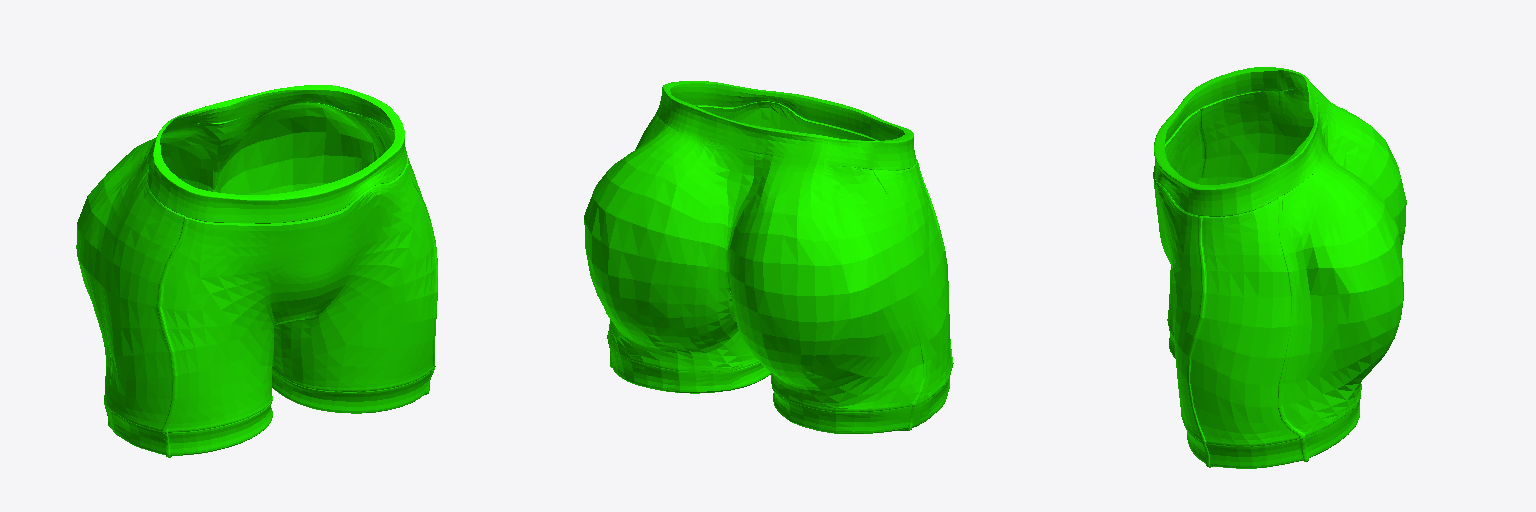
3 renders of one model, left to right at view 1: azimuth 30°, elevation 25°; view 2: azimuth 150°, elevation 25°; view 3: azimuth 270°, elevation 25°, orthographic.
Parts seen in each view (by area): view 1: ku.001; view 2: ku.001; view 3: ku.001.
Boxes of the visible parts, box(x1,y1,x2,y2) form: ku.001: box(76, 85, 437, 457); ku.001: box(584, 81, 953, 433); ku.001: box(1153, 67, 1406, 468).
Bounding box in the file's own units: 4.08 × 3.67 × 2.89.